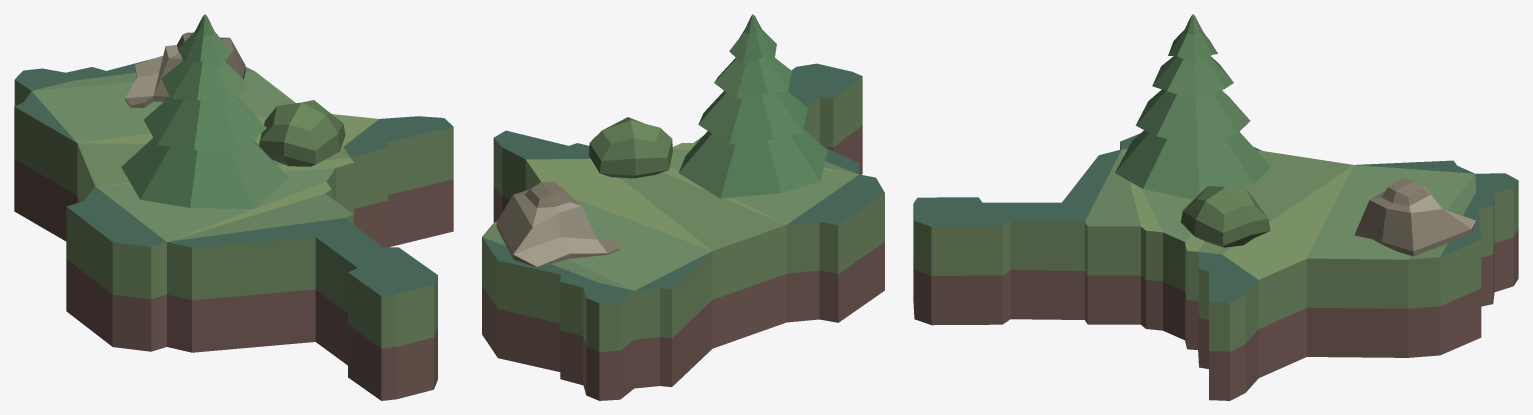
Rendered from maya.gltf.
The picture shows the model from 3 angles, left to right: view 1: azimuth 30°, elevation 25°; view 2: azimuth 150°, elevation 25°; view 3: azimuth 270°, elevation 25°; orthographic projection. The views are drawn at different scales.
Visible parts, largest first — view 1: майя; view 2: майя; view 3: майя.
Part boxes in pixels (x1=…): майя: x1=14, y1=14, x2=453, y2=400; майя: x1=482, y1=14, x2=884, y2=400; майя: x1=913, y1=14, x2=1518, y2=400.
Bounding box in the file's own units: 0.5859 × 0.4267 × 0.8713.
